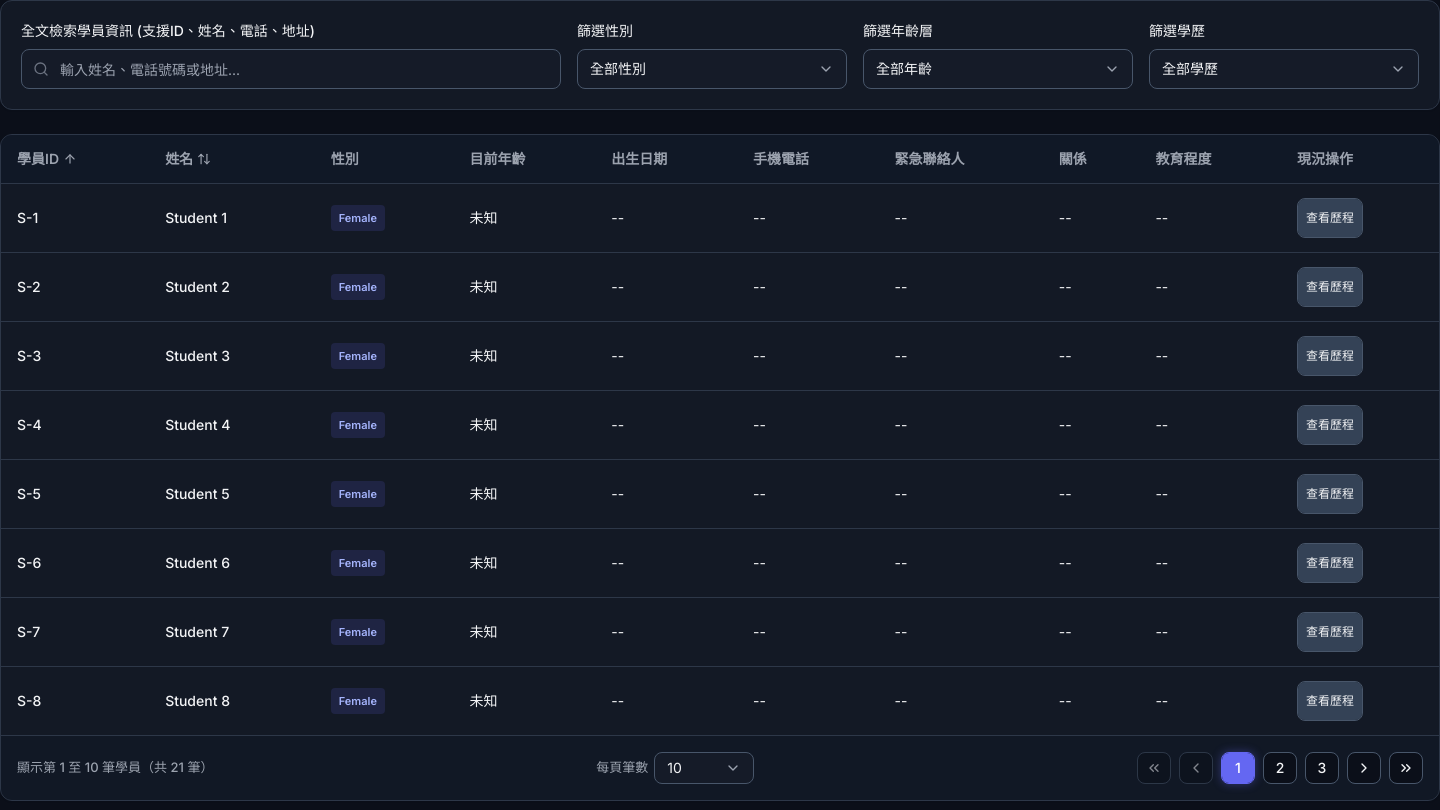
Test: StudentListTab list navigation › clamps an out-of-range page after search filtering
The width and height of the screenshot is (1440, 810).
Click the button with id "btn-student-last": {"x": 1406, "y": 768} [1389, 752, 1423, 784]
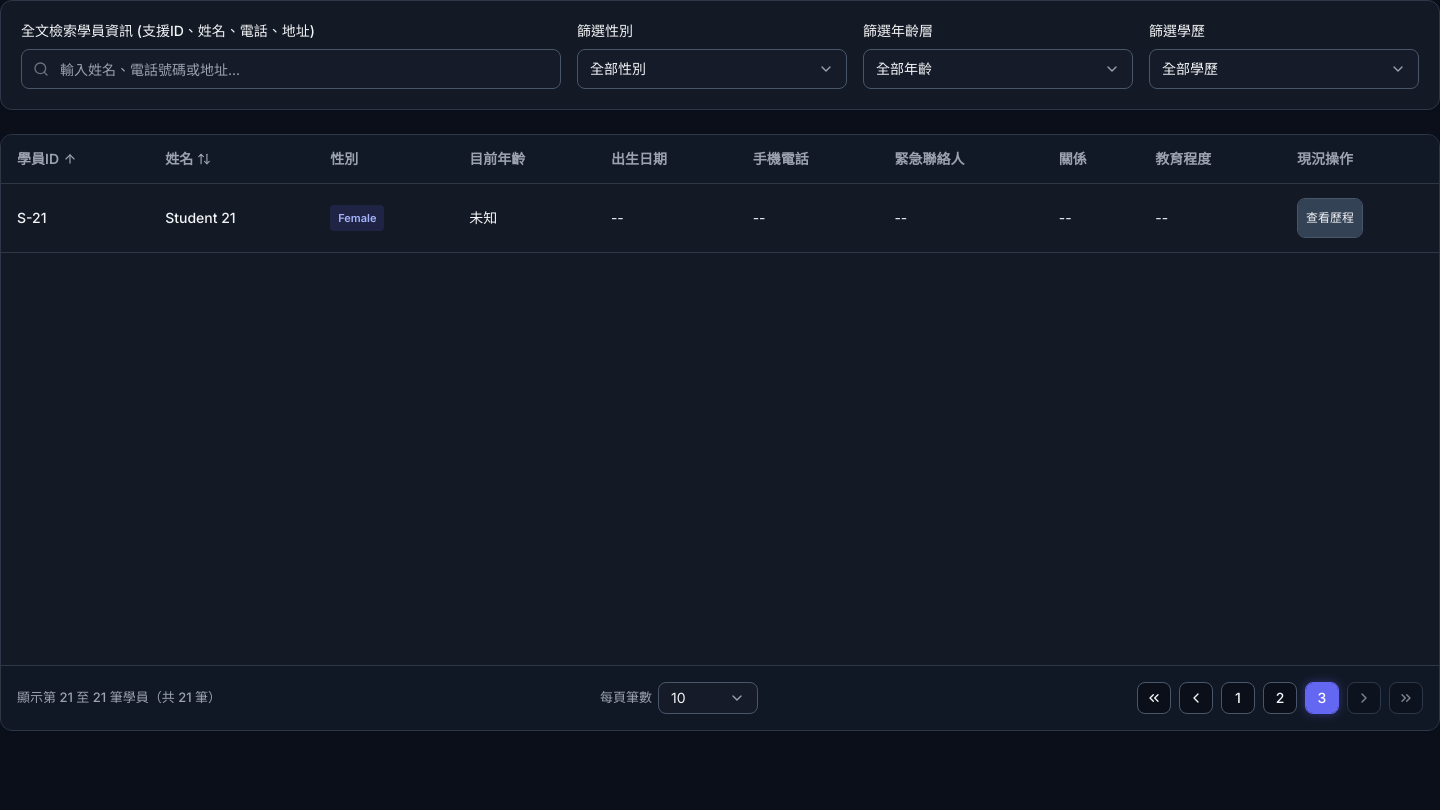
Expected: the text "Student 21" is shown, [149, 184, 314, 252]
In the field with id "student-search": {"x": 291, "y": 69} [21, 49, 561, 89], type "Student 1"
Wait 300 ms
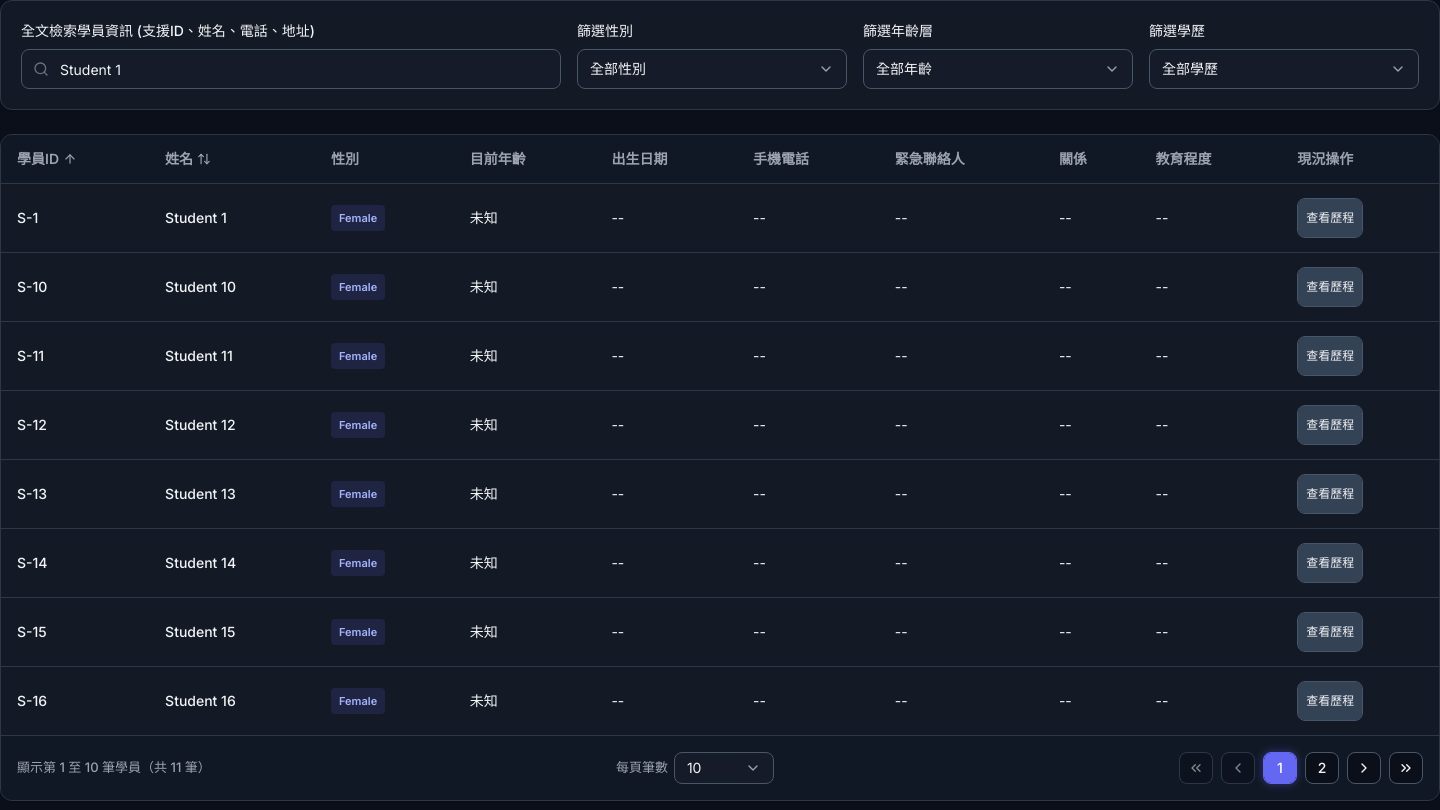
Expected: the text "Student 1" is shown, [149, 184, 315, 252]
Expected: the button with id "btn-student-first" is disabled, [1179, 752, 1213, 784]
